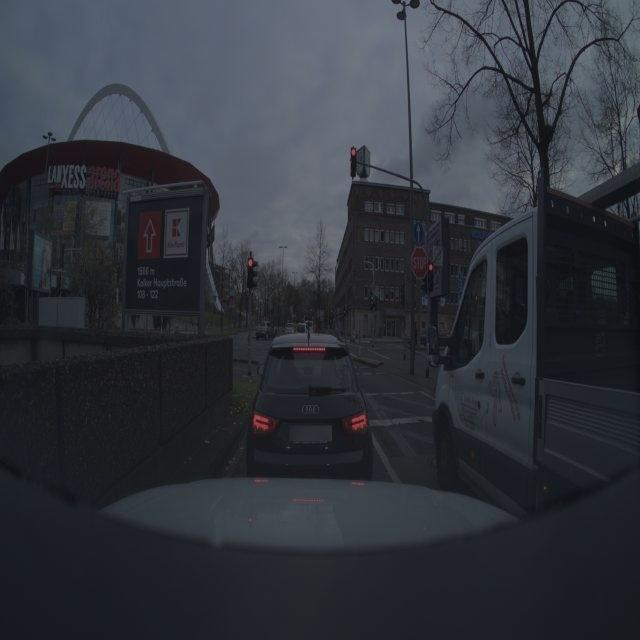Red: (246, 255, 262, 292), (427, 260, 438, 294), (350, 144, 358, 182)
